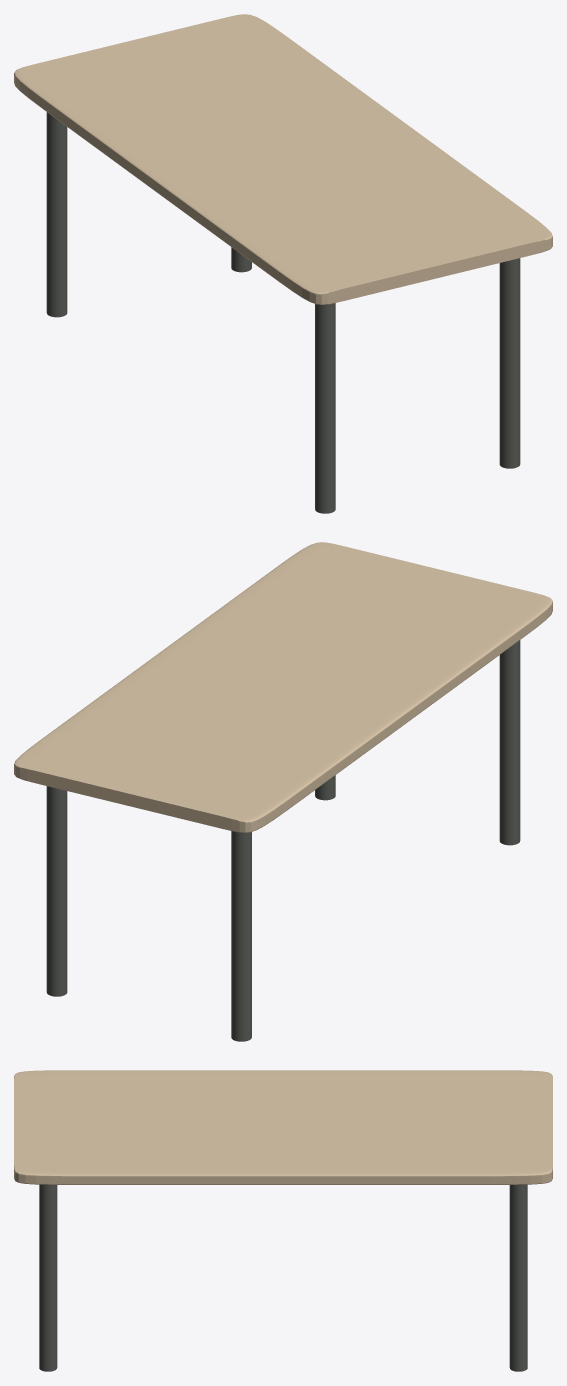
Rendered from table.fbx.
3 views of the same model, one above another, from view 1: azimuth 30°, elevation 25°; view 2: azimuth 150°, elevation 25°; view 3: azimuth 270°, elevation 25° (orthographic). The views are drawn at different scales.
Parts seen in each view (by area): view 1: table; view 2: table; view 3: table.
Part boxes in pixels (x1=…): table: x1=14, y1=14, x2=552, y2=513; table: x1=14, y1=542, x2=552, y2=1041; table: x1=14, y1=1070, x2=552, y2=1371.
Bounding box in the file's own units: 1002 × 912 × 2159.
